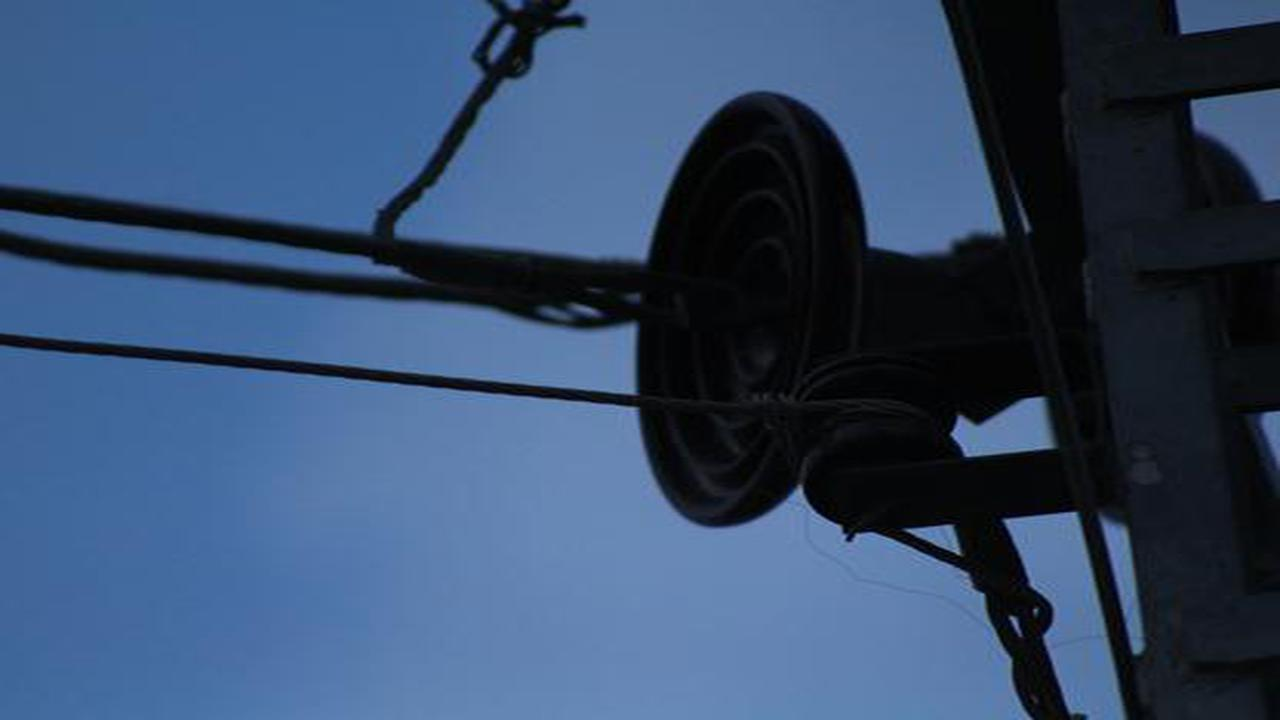insulator_disc: (632, 85, 877, 534)
